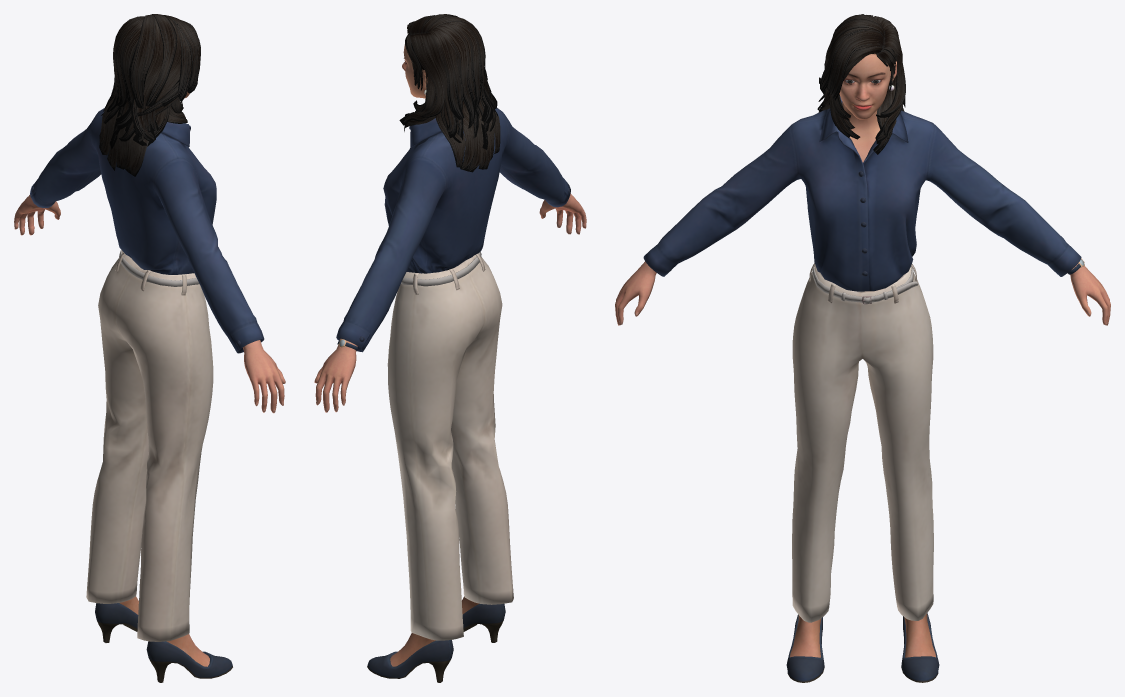
Rendered from sm_nvqingnian_web.fbx.
3 views of the same model, side by side, from view 1: azimuth 30°, elevation 25°; view 2: azimuth 150°, elevation 25°; view 3: azimuth 270°, elevation 25° (orthographic).
Parts seen in each view (by area): view 1: sm_nvqingnian_web; view 2: sm_nvqingnian_web; view 3: sm_nvqingnian_web.
Part boxes in pixels (<box>): sm_nvqingnian_web: <box>14,14,285,682</box>; sm_nvqingnian_web: <box>314,14,586,682</box>; sm_nvqingnian_web: <box>615,14,1110,682</box>.
Bounding box in the file's own units: 0.2716 × 1.84 × 1.28.
